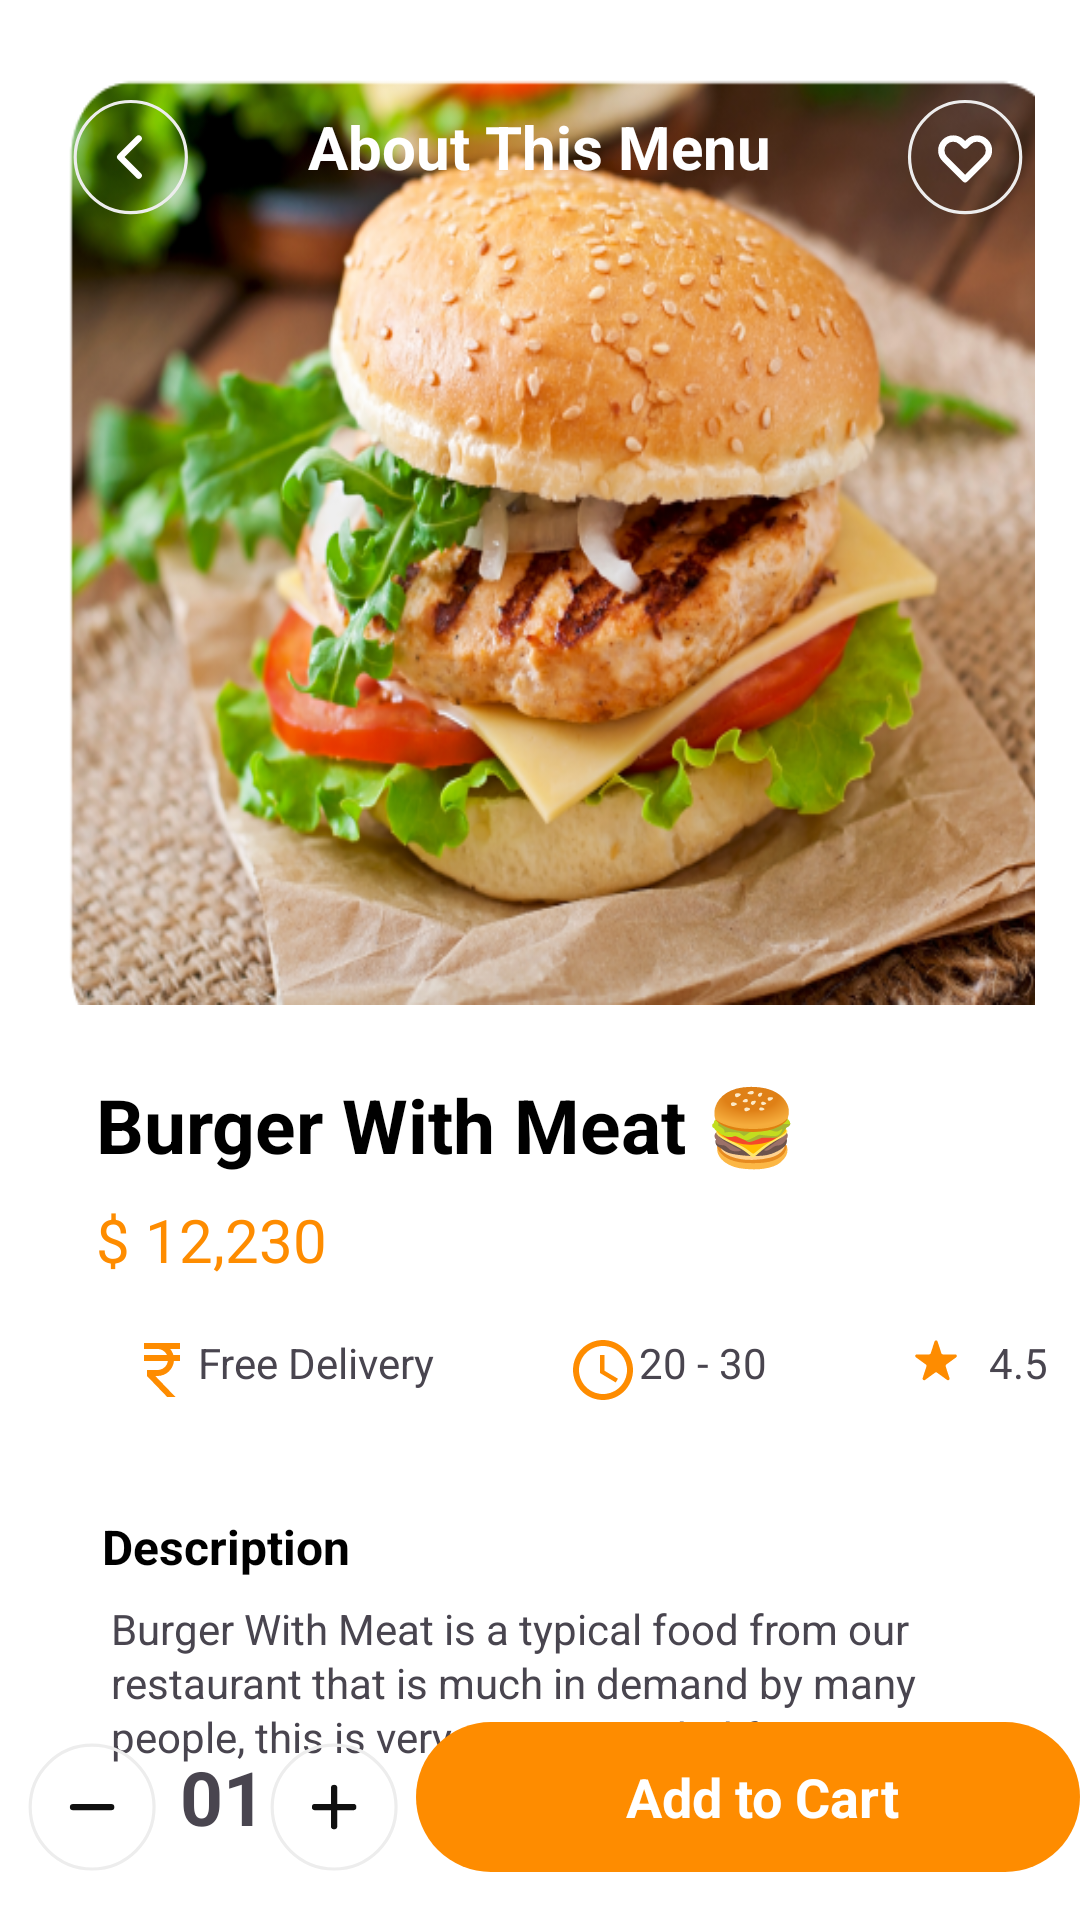

Icon click points for this 1080 x 1920 phone screenshot, format (x,y):
left: (120,147)
trans heart: (960,147)
